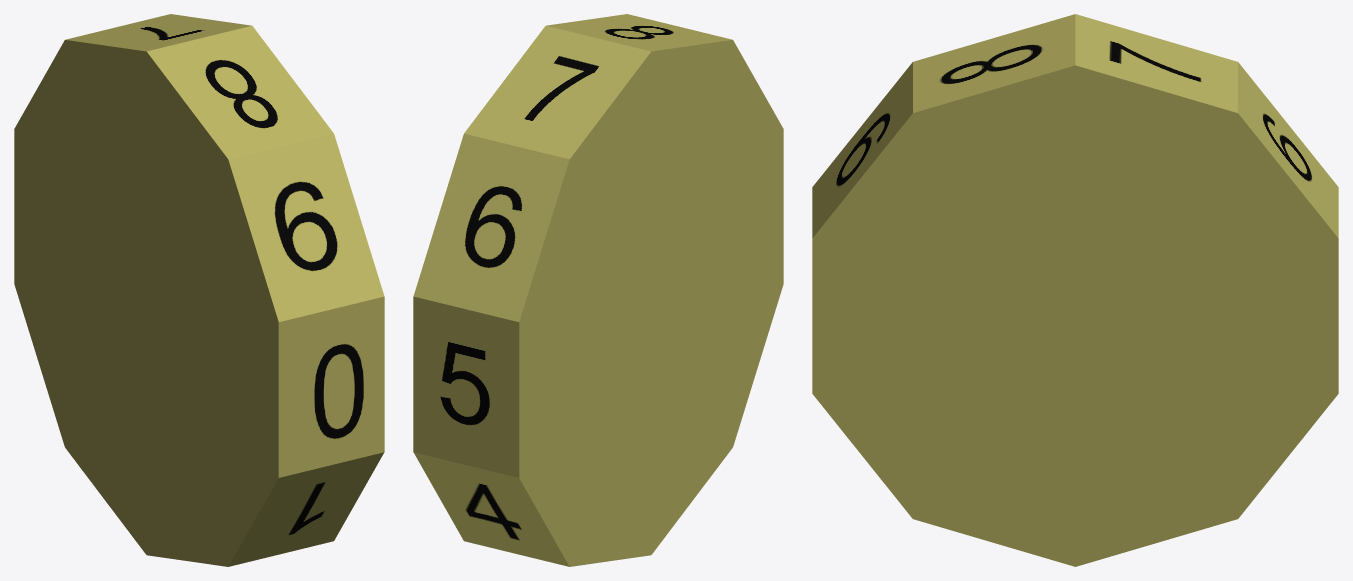
File: knob.fbx
The picture shows the model from 3 angles, left to right: view 1: azimuth 30°, elevation 25°; view 2: azimuth 150°, elevation 25°; view 3: azimuth 270°, elevation 25°; orthographic projection.
Parts seen in each view (by area): view 1: Plane.030; view 2: Plane.030; view 3: Plane.030.
Part boxes in pixels (left/top/right/bottom): Plane.030: left=14, top=14, right=384, bottom=566; Plane.030: left=413, top=14, right=783, bottom=566; Plane.030: left=812, top=14, right=1338, bottom=566.
Size of the model in its own units: 53.26 by 56 by 12.3.
1 material, 1 textured.
